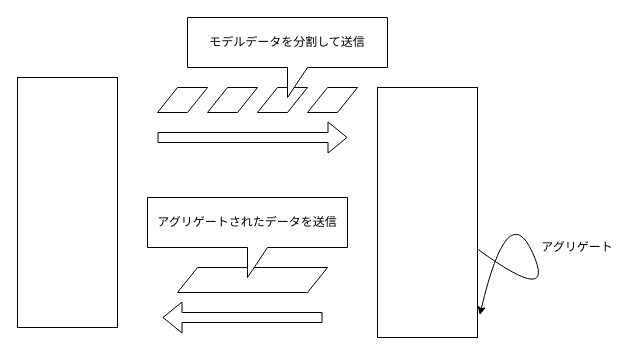
This 635x355 diagram has some shape labels left out. The shapes that lost their labels are listed below. From the top down, each one's centre as x and y in pixels, then its label:
At pixel 67 202: "client".
At pixel 427 212: "server".
